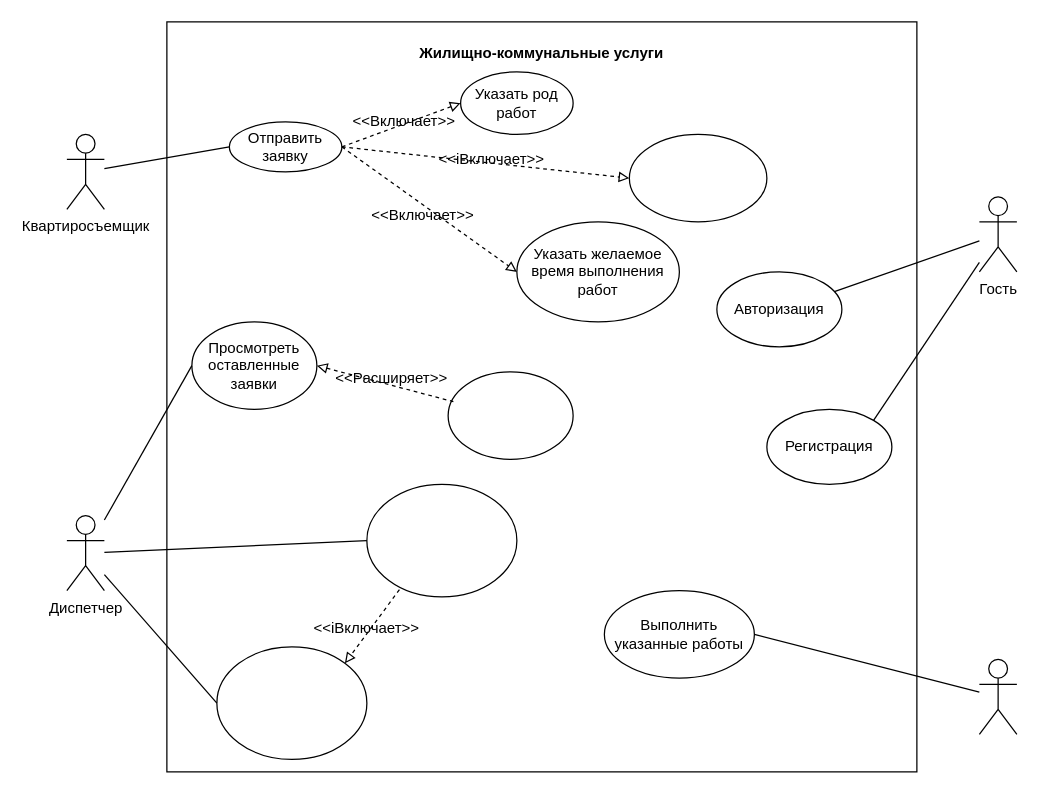
Image size: 1048x794. Some labels were removed from this diagram. The box of each missing label's shape, as (x1, y1, x2, y2) in pixels:
Бригада: (978, 658, 1017, 734)
Зарегистрировать бригаду в плане работ: (216, 646, 367, 759)
Просмотреть информацию о заявке: (447, 371, 573, 459)
Сформировать соответствующую бригаду: (366, 483, 517, 597)
Указать масштаб работ: (628, 133, 767, 222)
